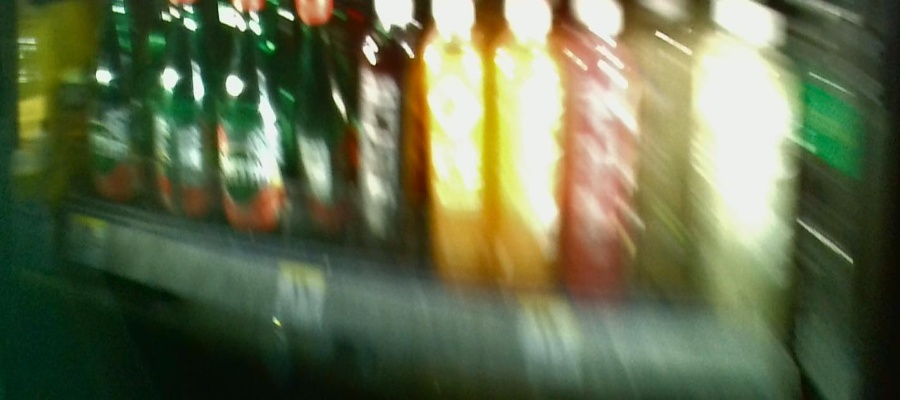bottle: (568, 1, 635, 289), (495, 2, 562, 285), (423, 1, 490, 274), (355, 1, 415, 250), (150, 3, 215, 228), (289, 2, 349, 235), (220, 1, 278, 233), (87, 5, 143, 214)
